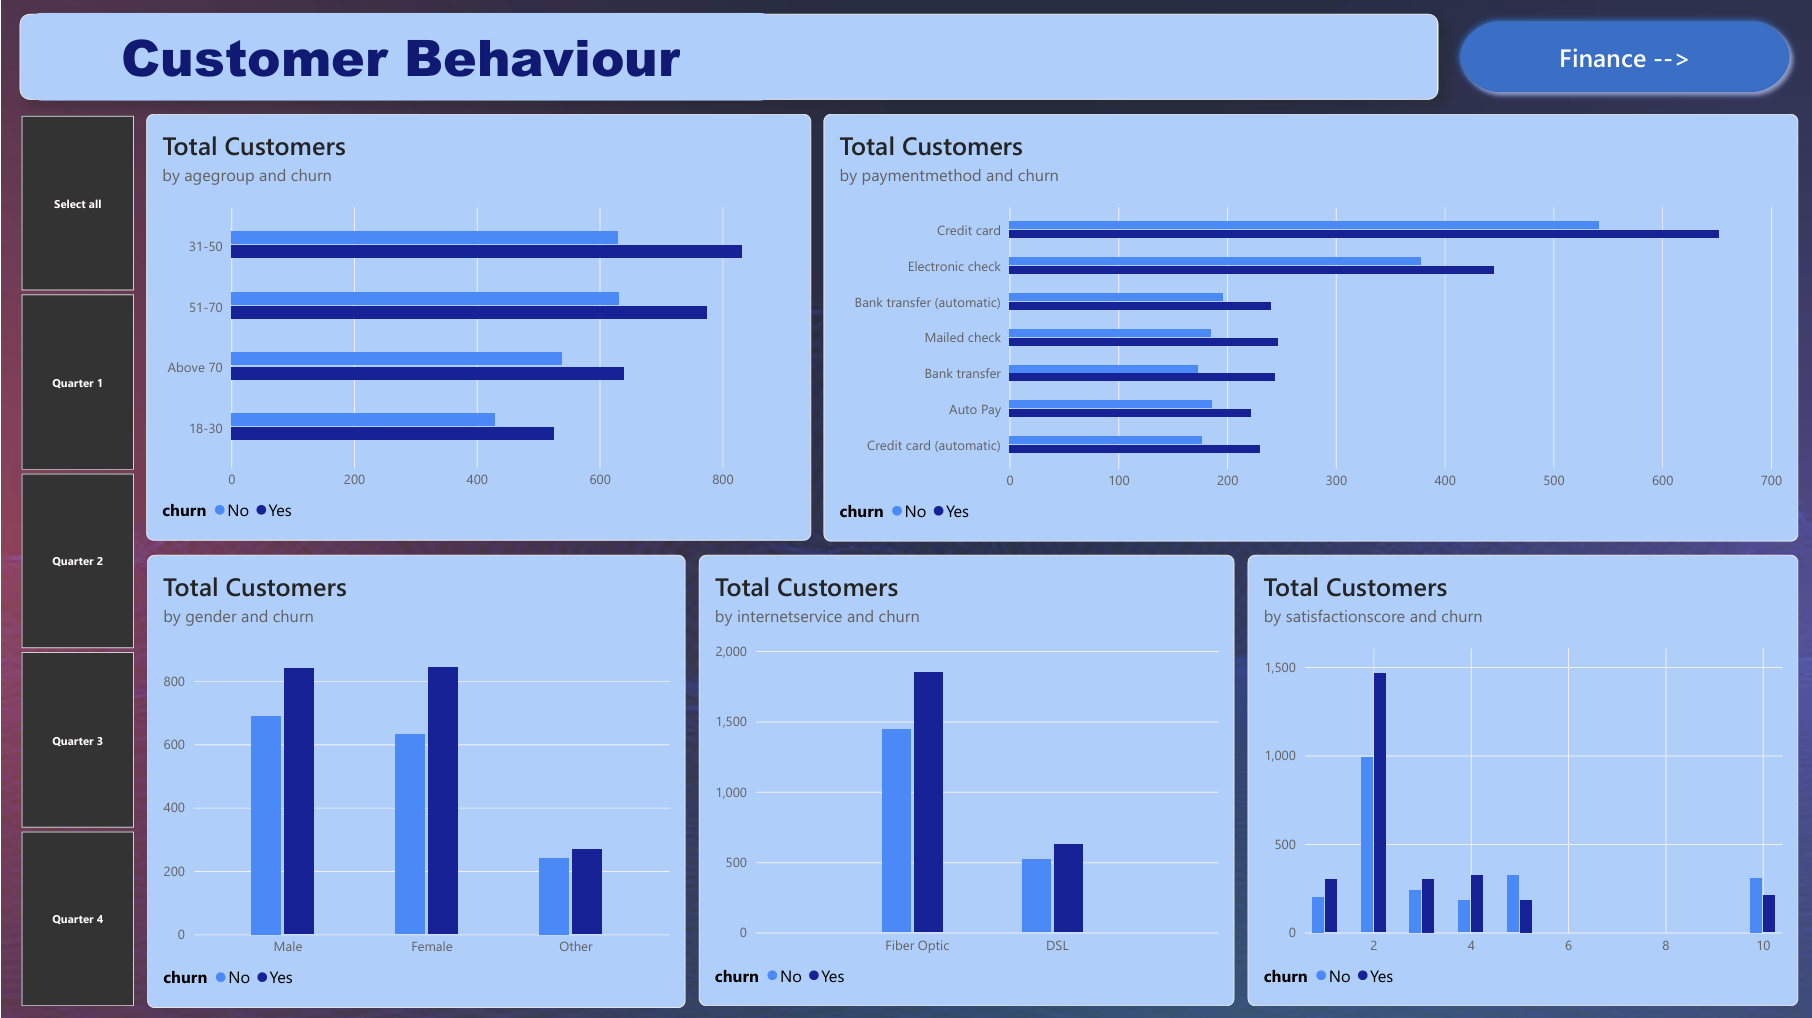

The dashboard page shown, as its layout file describes it:
{"tool":"powerbi","page":{"name":"Behaviour","canvas":[1920,1080],"ordinal":1},"visuals":[{"type":"shape","box":[18.8,14.6,1502.6,91.8],"z":0},{"type":"shape","box":[19.9,14.5,805.3,92.3],"z":1000},{"type":"clusteredBarChart","fields":{"Y":["Count(Ashok_Churn_analysis.customerid)"],"Category":["Ashok_Churn_analysis.agegroup"],"Series":["Ashok_Churn_analysis.churn"]},"box":[153,121,704,452],"z":2000},{"type":"clusteredBarChart","fields":{"Y":["Count(Ashok_Churn_analysis.customerid)"],"Category":["Ashok_Churn_analysis.paymentmethod"],"Series":["Ashok_Churn_analysis.churn"]},"box":[870.4,121.2,1031.5,452.4],"z":3000},{"type":"clusteredColumnChart","fields":{"Category":["Ashok_Churn_analysis.gender"],"Y":["Count(Ashok_Churn_analysis.customerid)"],"Series":["Ashok_Churn_analysis.churn"]},"box":[153.8,588.1,570,479.6],"z":4000},{"type":"clusteredColumnChart","fields":{"Series":["Ashok_Churn_analysis.churn"],"Category":["Ashok_Churn_analysis.internetservice"],"Y":["Count(Ashok_Churn_analysis.customerid)"]},"box":[738.3,588.1,566.4,477.8],"z":5000},{"type":"clusteredColumnChart","fields":{"Y":["CountNonNull(Ashok_Churn_analysis.customerid)"],"Series":["Ashok_Churn_analysis.churn"],"Category":["Ashok_Churn_analysis.satisfactionscore"]},"box":[1319.2,588.1,582.7,477.8],"z":6000},{"type":"slicer","fields":{"Values":["Ashok_Churn_analysis.quarter"]},"box":[0,121.2,159.3,946.5],"z":7000},{"type":"actionButton","box":[1535.1,14.1,367.1,92.8],"z":7001}]}

Visuals, with their boxes in screenshot pixels (x1, y1, x2, y2), scaled from the page's 1920x1080 canvas onto the 1812x1018 screenshot:
shape: 18:14:1436:100
shape: 19:14:779:101
clusteredBarChart - Count(Ashok_Churn_analysis.customerid) x Ashok_Churn_analysis.agegroup: 144:114:809:540
clusteredBarChart - Count(Ashok_Churn_analysis.customerid) x Ashok_Churn_analysis.paymentmethod: 821:114:1795:541
clusteredColumnChart - Ashok_Churn_analysis.gender x Count(Ashok_Churn_analysis.customerid): 145:554:683:1006
clusteredColumnChart - Ashok_Churn_analysis.churn x Ashok_Churn_analysis.internetservice: 697:554:1231:1005
clusteredColumnChart - CountNonNull(Ashok_Churn_analysis.customerid) x Ashok_Churn_analysis.churn: 1245:554:1795:1005
slicer - Ashok_Churn_analysis.quarter: 0:114:150:1006
actionButton: 1449:13:1795:101
